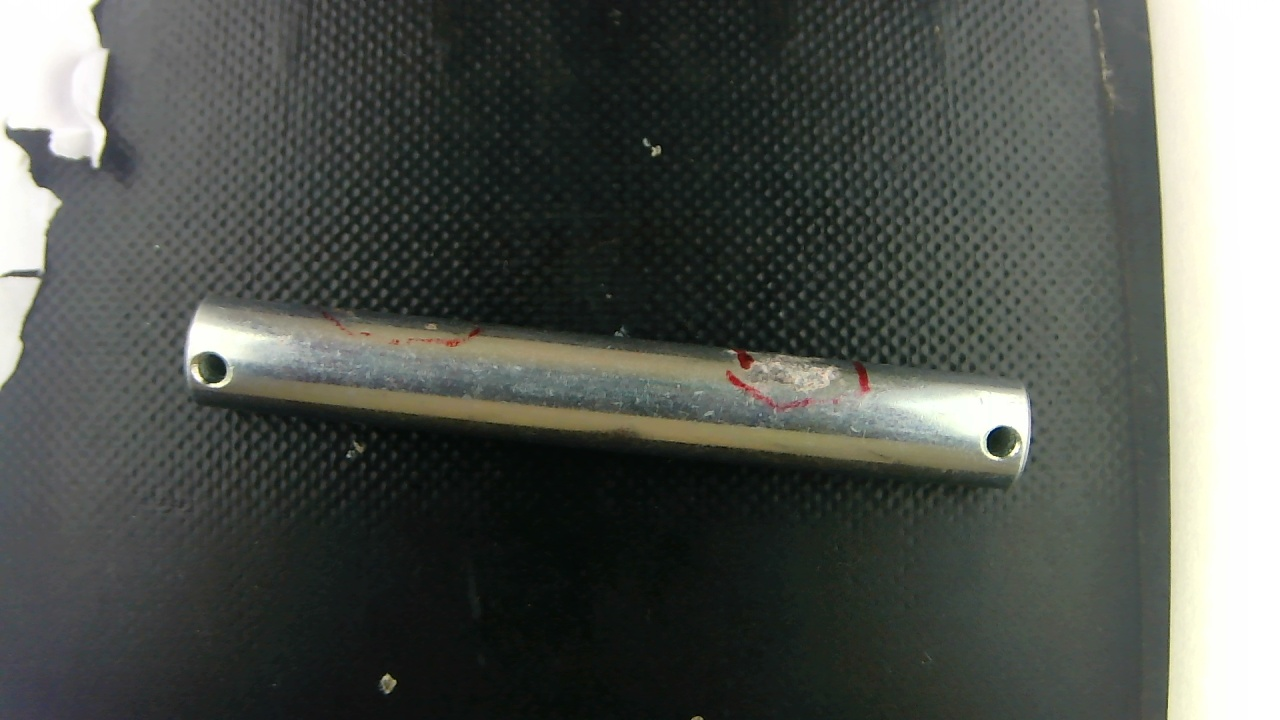whiterust_pin: (743, 341, 843, 396)
